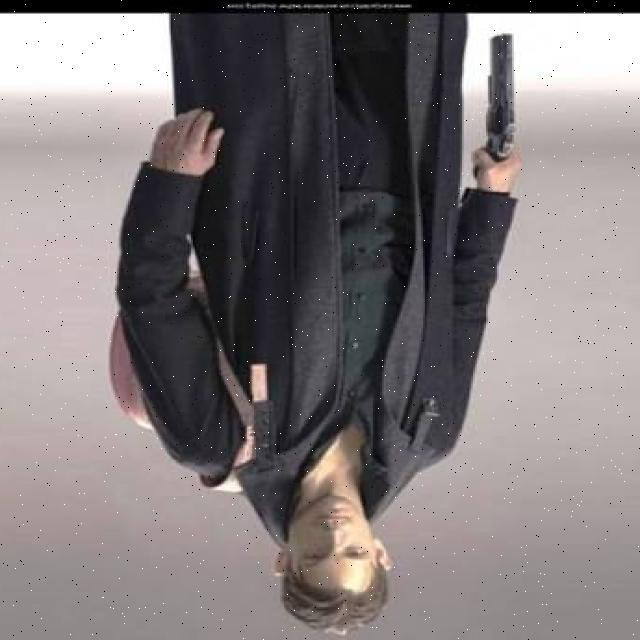gun: (464, 24, 521, 189)
